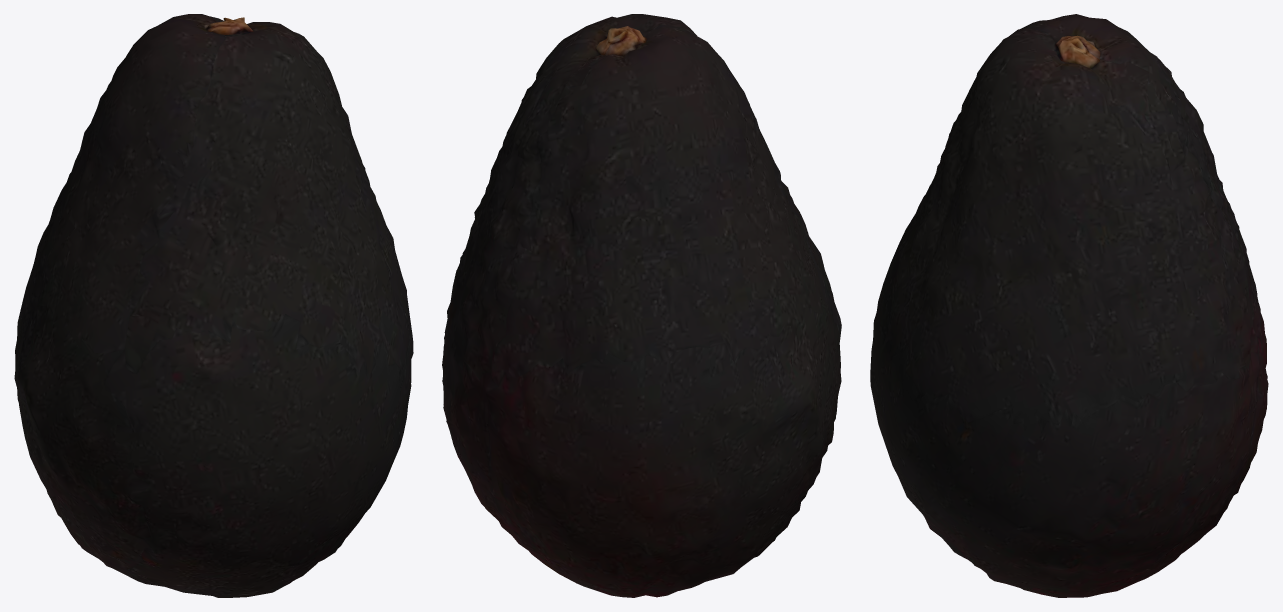
Rendered from food_avocado_01.glb.
3 views of the same model, side by side, from view 1: azimuth 30°, elevation 25°; view 2: azimuth 150°, elevation 25°; view 3: azimuth 270°, elevation 25° (orthographic). The views are drawn at different scales.
Visible parts, largest first — view 1: food_avocado_01; view 2: food_avocado_01; view 3: food_avocado_01.
Part boxes in pixels (box(x1,y1,x2,y2)): food_avocado_01: box(14, 14, 413, 597); food_avocado_01: box(442, 14, 841, 597); food_avocado_01: box(870, 14, 1268, 597).
Size of the model in its own units: 0.0952 by 0.1432 by 0.0946.
1 material, 1 textured.
